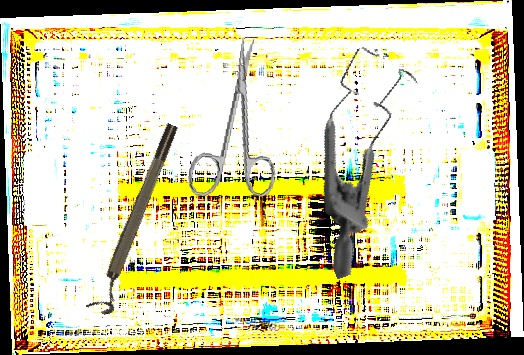Fixation Ring: (85, 121, 190, 318)
Iris Scissors: (186, 31, 294, 207)
Speculum: (263, 33, 473, 280)
